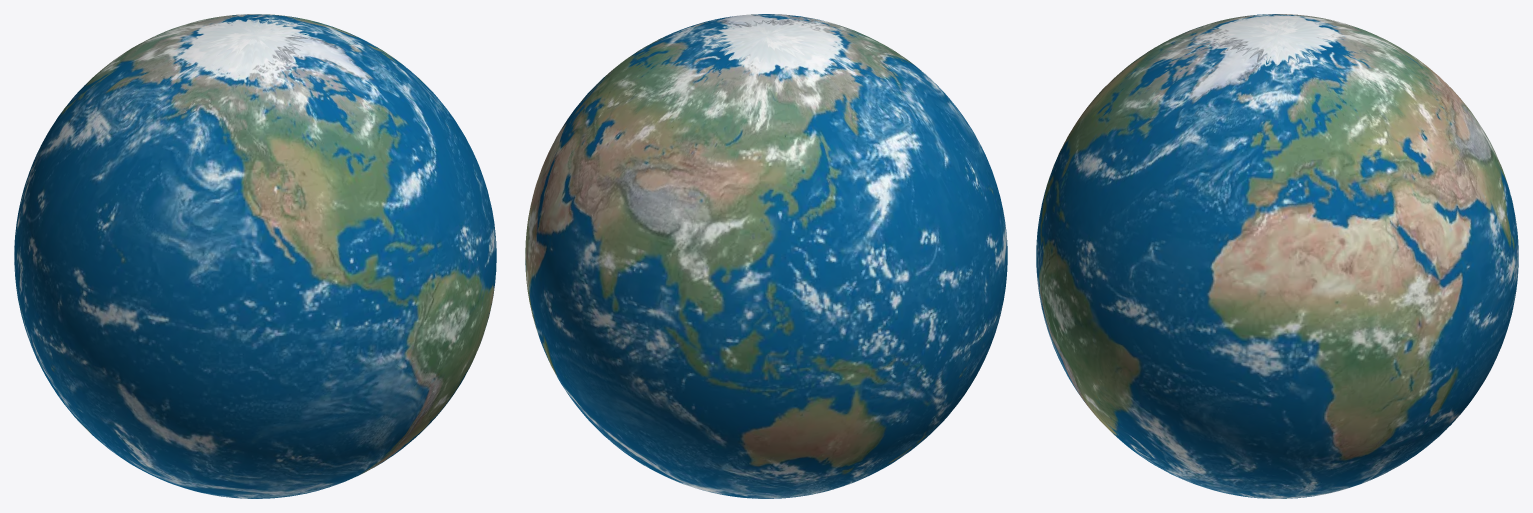
File: earth-transformed.glb
3 views of the same model, side by side, from view 1: azimuth 30°, elevation 25°; view 2: azimuth 150°, elevation 25°; view 3: azimuth 270°, elevation 25° (orthographic).
Parts seen in each view (by area): view 1: Sphere_2; view 2: Sphere_2; view 3: Sphere_2.
Boxes of the visible parts, x1,y1,x2,y2 form: Sphere_2: (14, 14, 496, 498); Sphere_2: (525, 14, 1007, 498); Sphere_2: (1036, 14, 1518, 498).
Size of the model in its own units: 2.23 by 2.25 by 2.23.
Materials: 1 (1 with a texture image).
